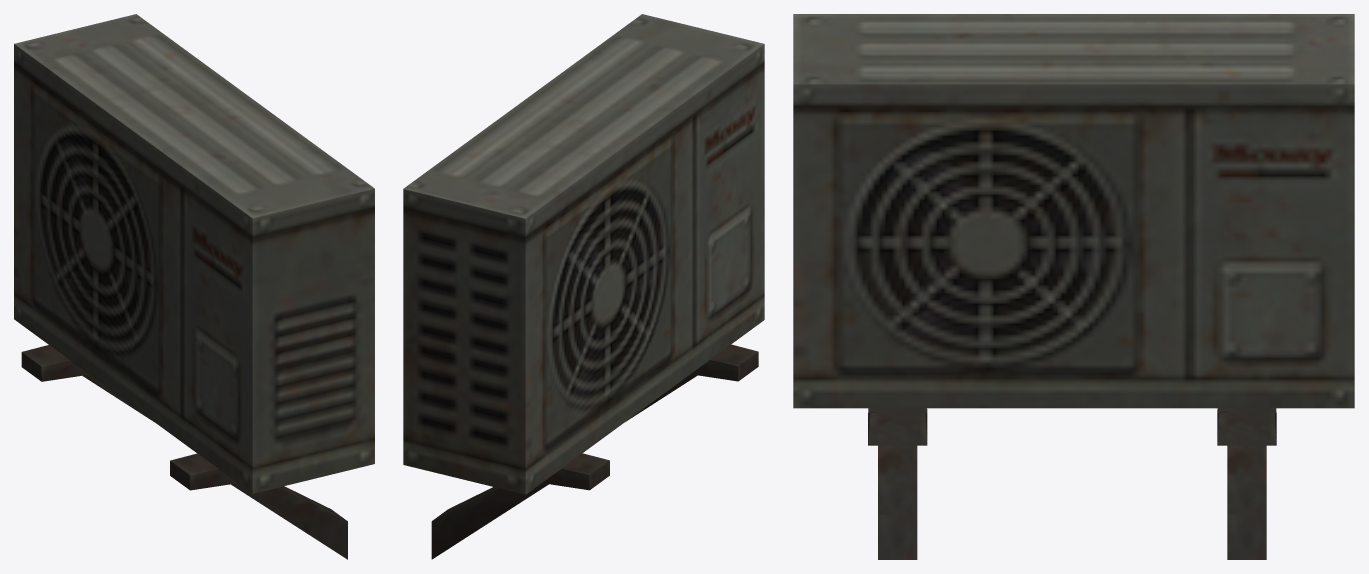
Rendered from Stage-gongchang-kongtiao.FBX.
3 renders of one model, left to right at view 1: azimuth 30°, elevation 25°; view 2: azimuth 150°, elevation 25°; view 3: azimuth 270°, elevation 25°, orthographic. The views are drawn at different scales.
Parts seen in each view (by area): view 1: Object58; view 2: Object58; view 3: Object58.
Part boxes in pixels (left/top/right/bottom): Object58: left=14, top=14, right=374, bottom=559; Object58: left=403, top=14, right=764, bottom=559; Object58: left=793, top=14, right=1354, bottom=559.
Size of the model in its own units: 0.8238 by 2.13 by 1.97.
